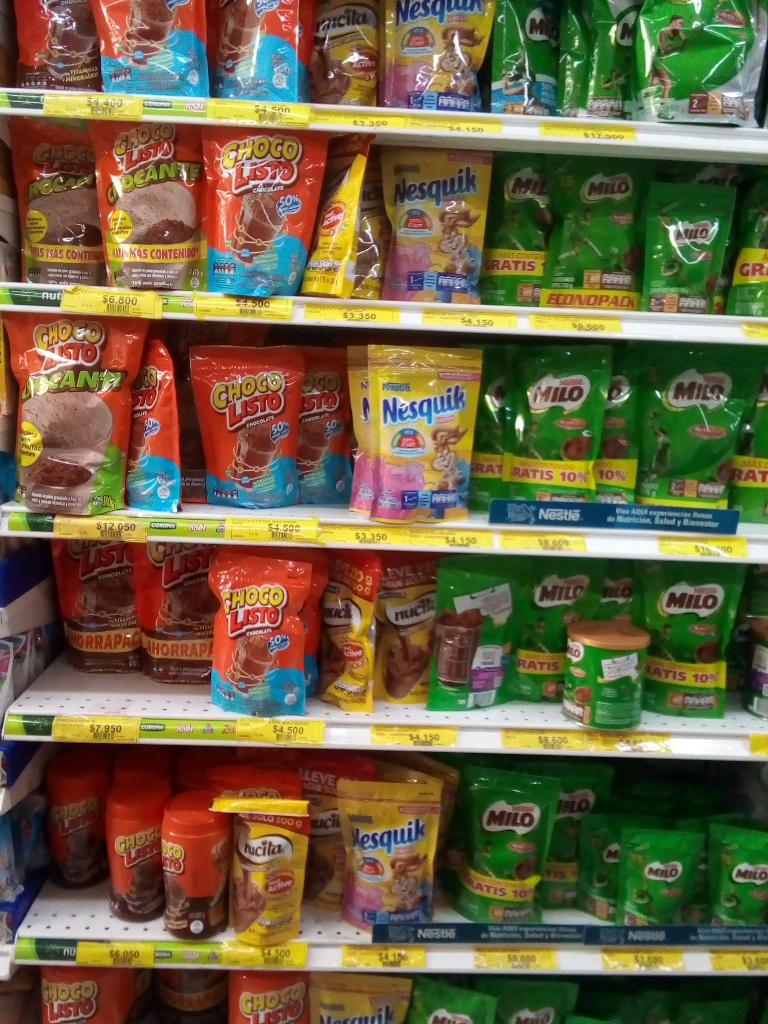COL0170102DYP50000: (0, 309, 141, 517)
COL0170103DYP20000: (7, 1, 100, 92)
COL0170103DYP40000: (51, 542, 145, 676)
COL0170103TRR30000: (163, 796, 234, 939)
COL0170104DYP20000: (212, 125, 325, 299)
COL0170203DYP10000: (646, 180, 734, 312)
COL0170203DYP25000: (543, 152, 643, 307)
COL0170203DYP50000: (642, 3, 762, 126)
COL0170203LAT20000: (548, 623, 653, 731)
COL0170205DYP20000: (486, 3, 558, 113)
COL0170305DYP20000: (361, 340, 482, 521)
